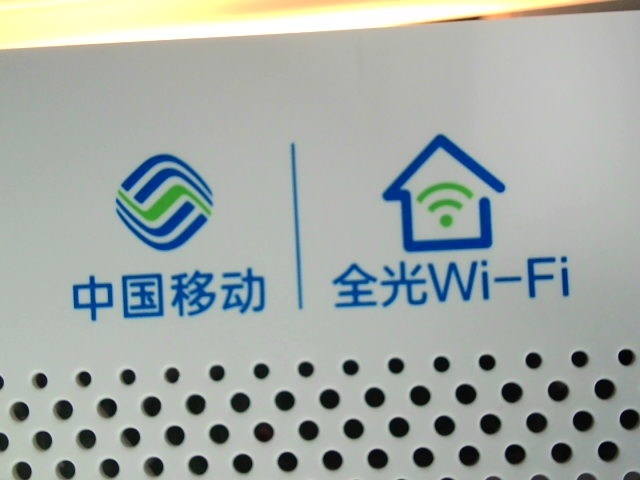BJ_QuanGuangMobile: (68, 127, 585, 327)
